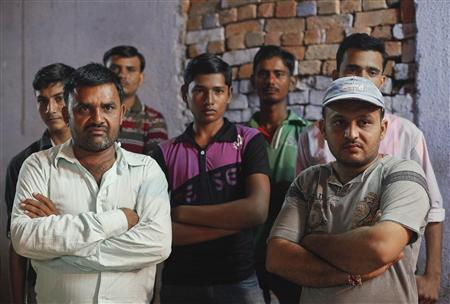men: (318, 74, 394, 175), (63, 62, 127, 162), (180, 55, 239, 127), (330, 29, 397, 87), (27, 61, 78, 136), (251, 44, 308, 106)
